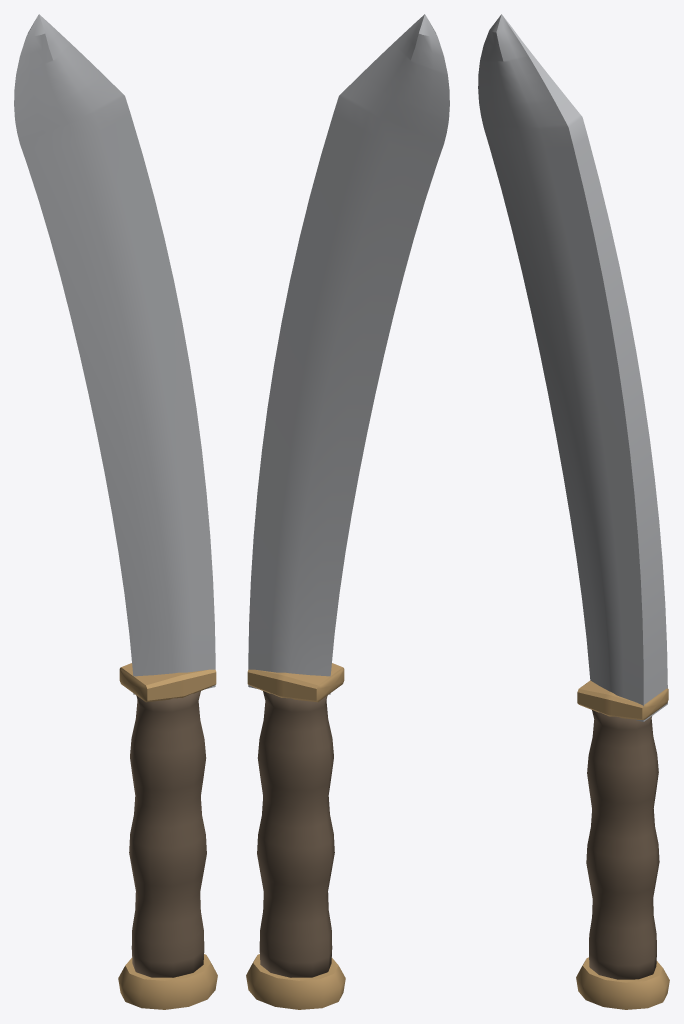
Rendered from kukri.glb.
3 views of the same model, side by side, from view 1: azimuth 30°, elevation 25°; view 2: azimuth 150°, elevation 25°; view 3: azimuth 330°, elevation 25° (orthographic). The views are drawn at different scales.
Visible parts, largest first — view 1: kukri; view 2: kukri; view 3: kukri.
Part boxes in pixels (x1,y1,x2,y2): kukri: (14,14,217,1009); kukri: (246,14,449,1009); kukri: (478,14,669,1009).
Bounding box in the file's own units: 0.214 × 1.05 × 0.0821.
